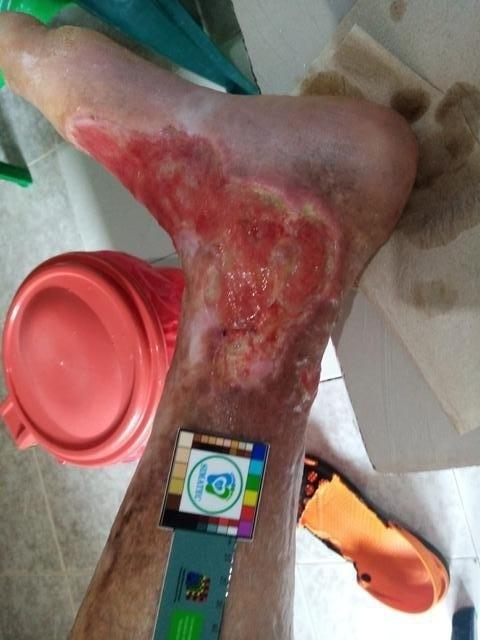wound: (75, 120, 333, 385), (298, 368, 320, 396)
